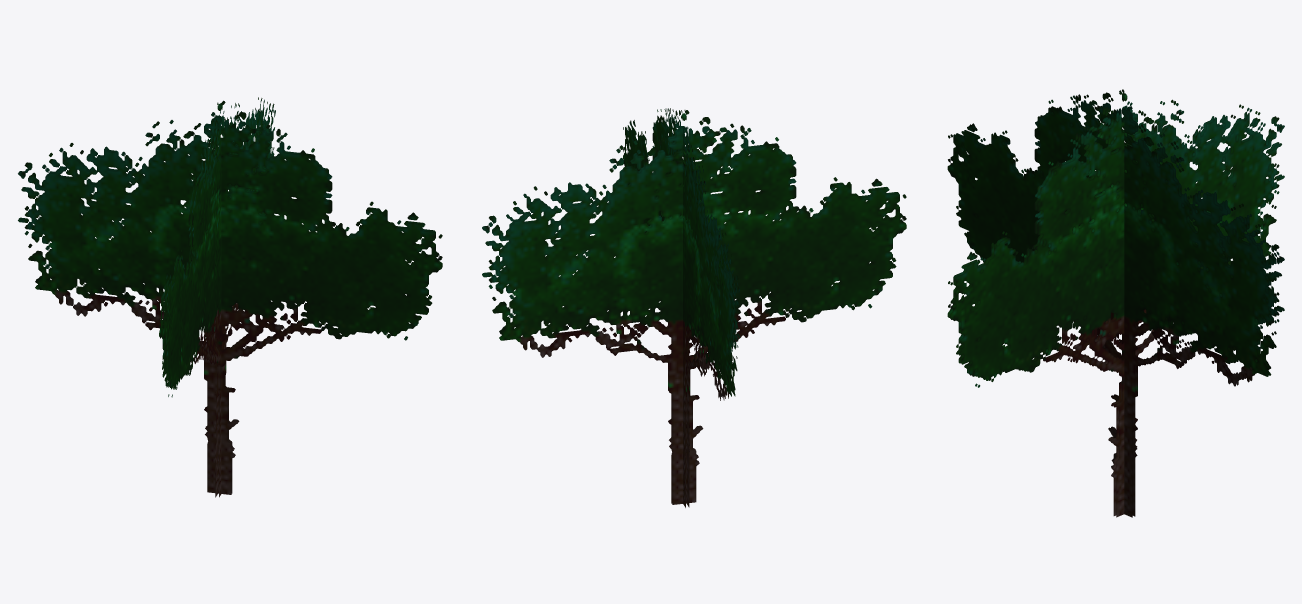
File: tree077.fbx
The picture shows the model from 3 angles, left to right: view 1: azimuth 30°, elevation 25°; view 2: azimuth 150°, elevation 25°; view 3: azimuth 270°, elevation 25°; orthographic projection. The views are drawn at different scales.
Parts seen in each view (by area): view 1: tree077; view 2: tree077; view 3: tree077.
Part boxes in pixels (x1,y1,x2,y2): tree077: [18, 97, 442, 497]; tree077: [482, 108, 906, 507]; tree077: [947, 89, 1284, 517].
Size of the model in its own units: 254 by 335 by 241.
Materials: 1 (1 with a texture image).
